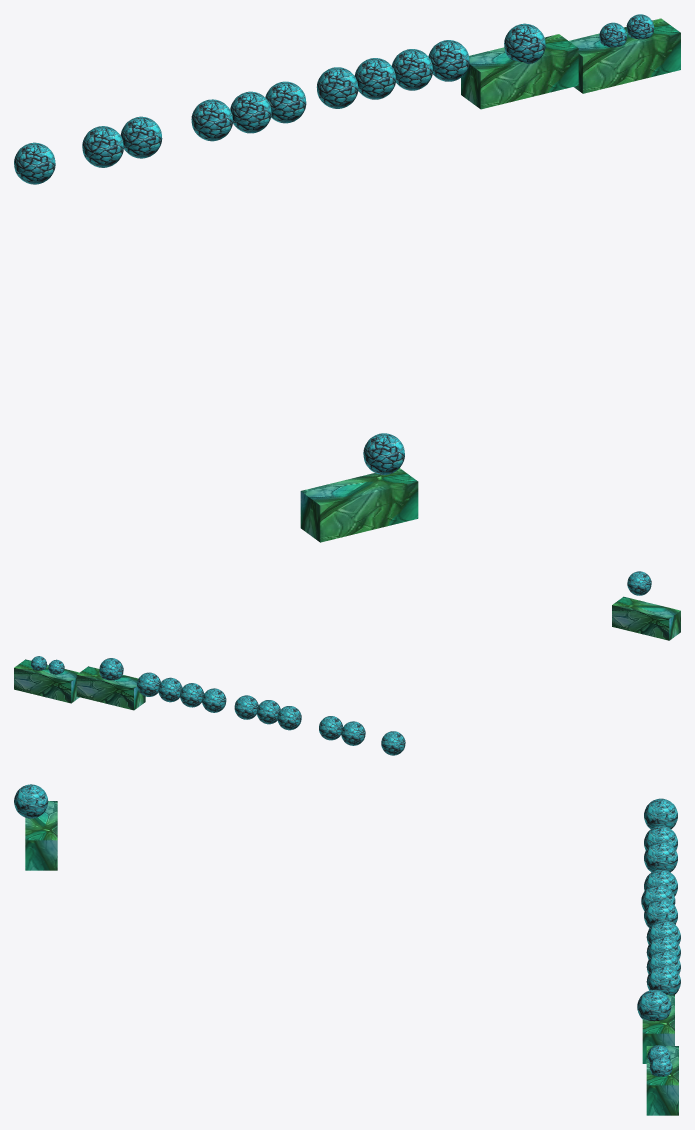
Rendered from Enumeracion.fbx.
The picture shows the model from 3 angles, top to bottom: view 1: azimuth 30°, elevation 25°; view 2: azimuth 150°, elevation 25°; view 3: azimuth 270°, elevation 25°; orthographic projection. The views are drawn at different scales.
Parts seen in each view (by area): view 1: Cinco, palo, Seis, Cuatro, Tres, Dos, bola, Uno; view 2: Cinco, Seis, palo, Cuatro, Tres, Dos, bola, Uno; view 3: Seis, Cuatro, palo, Cinco, Tres, Dos, bola, Uno.
Part boxes in pixels (bbox=[...]): Cinco: bbox=[461, 23, 578, 109]; palo: bbox=[300, 468, 418, 542]; Seis: bbox=[569, 14, 680, 93]; Cuatro: bbox=[316, 40, 469, 108]; Tres: bbox=[191, 81, 306, 141]; Dos: bbox=[82, 116, 162, 167]; bola: bbox=[363, 433, 404, 474]; Uno: bbox=[14, 142, 55, 184]; Cinco: bbox=[76, 658, 145, 710]; Seis: bbox=[14, 656, 79, 703]; palo: bbox=[612, 596, 680, 640]; Cuatro: bbox=[137, 672, 226, 712]; Tres: bbox=[234, 695, 301, 730]; Dos: bbox=[319, 716, 365, 745]; bola: bbox=[627, 571, 651, 595]; Uno: bbox=[381, 731, 405, 755]; Seis: bbox=[646, 1045, 678, 1115]; Cuatro: bbox=[646, 920, 680, 994]; palo: bbox=[25, 801, 57, 870]; Cinco: bbox=[637, 990, 674, 1063]; Tres: bbox=[641, 869, 677, 927]; Dos: bbox=[644, 826, 677, 872]; bola: bbox=[14, 784, 48, 818]; Uno: bbox=[644, 798, 677, 829].
Size of the model in its own units: 12.25 by 1.45 by 11.69.
Materials: 2 (2 with a texture image).
